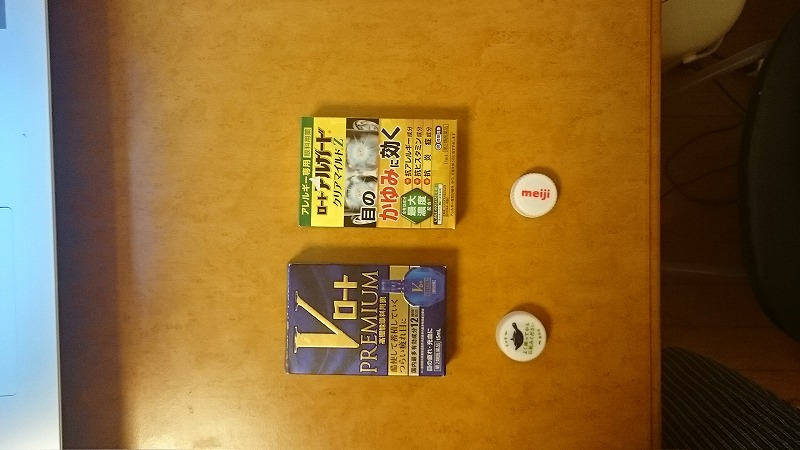A: (489, 310, 565, 365)
B: (503, 168, 569, 226)
C: (290, 112, 473, 238)
D: (278, 262, 452, 383)
